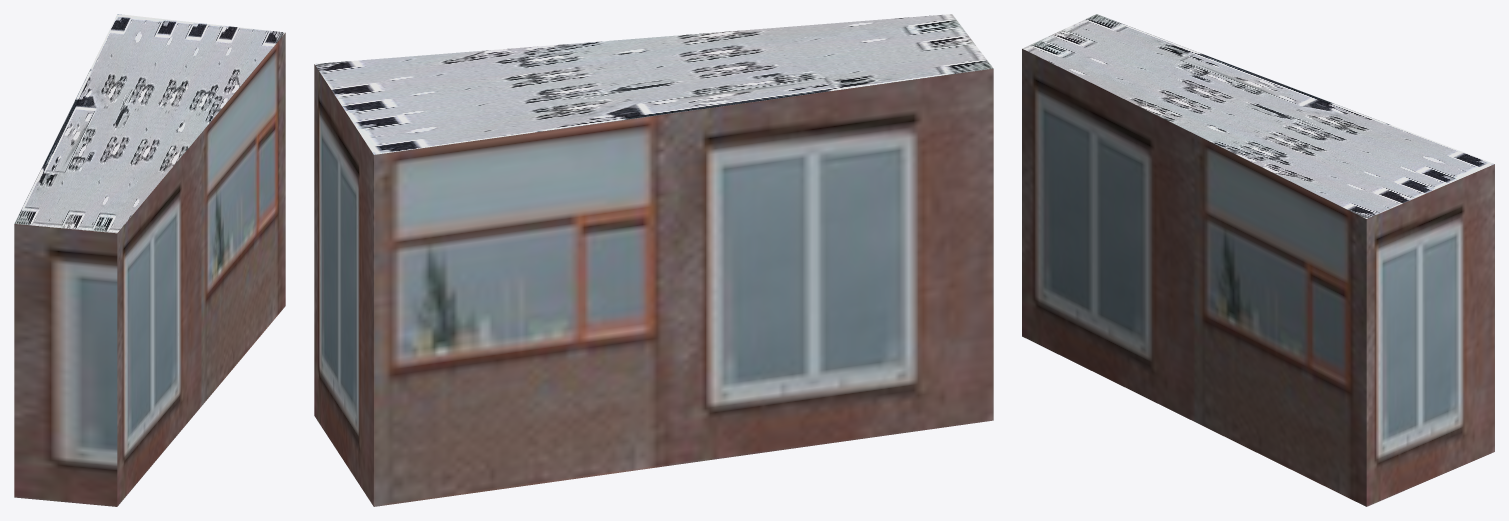
File: ResTex__461.fbx
3 views of the same model, side by side, from view 1: azimuth 30°, elevation 25°; view 2: azimuth 150°, elevation 25°; view 3: azimuth 270°, elevation 25° (orthographic). The views are drawn at different scales.
Visible parts, largest first — view 1: CityEngineMaterial_19_m, CityEngineMaterial_15_m; view 2: CityEngineMaterial_19_m, CityEngineMaterial_15_m; view 3: CityEngineMaterial_19_m, CityEngineMaterial_15_m.
Part boxes in pixels (<box>): CityEngineMaterial_19_m: <box>14,33,285,506</box>; CityEngineMaterial_15_m: <box>14,14,285,233</box>; CityEngineMaterial_19_m: <box>314,64,993,506</box>; CityEngineMaterial_15_m: <box>314,14,993,154</box>; CityEngineMaterial_19_m: <box>1022,49,1494,506</box>; CityEngineMaterial_15_m: <box>1022,14,1494,218</box>.
Bounding box in the file's own units: 4.59 × 3 × 4.46.
Materials: 2 (2 with a texture image).
